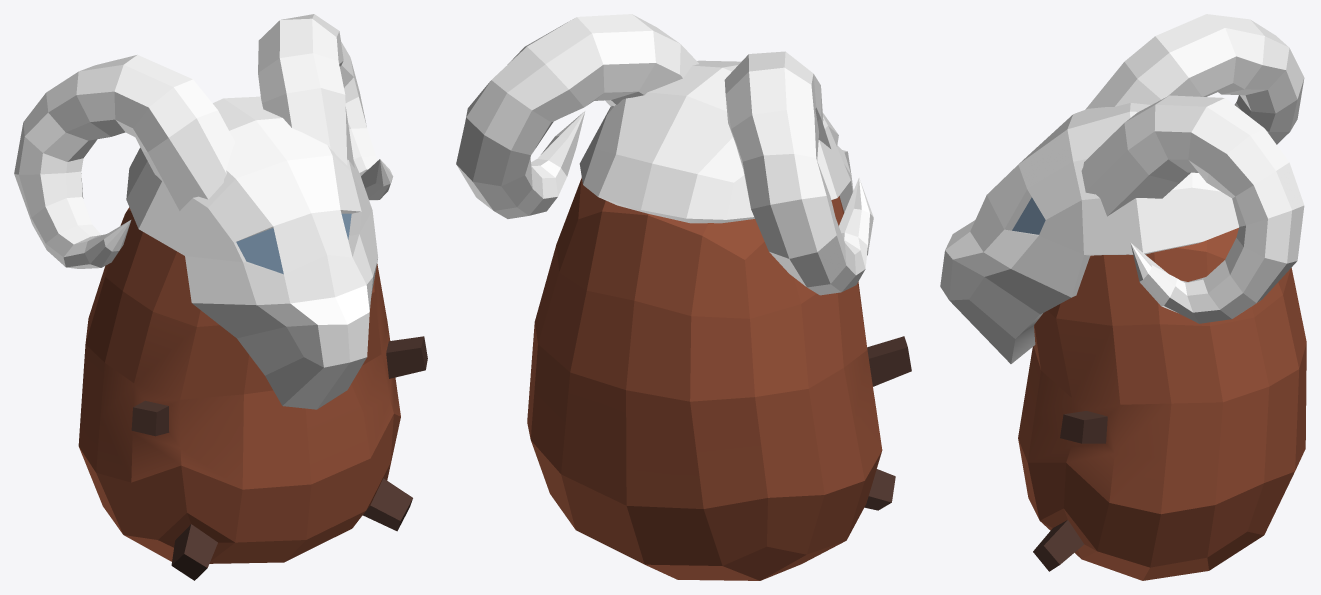
File: desert_potato.fbx
3 renders of one model, left to right at view 1: azimuth 30°, elevation 25°; view 2: azimuth 150°, elevation 25°; view 3: azimuth 270°, elevation 25°, orthographic. The views are drawn at different scales.
Parts seen in each view (by area): view 1: pCube4, pPlane4; view 2: pPlane4, pCube4; view 3: pPlane4, pCube4.
Part boxes in pixels (<box>): pCube4: <box>14,14,393,409</box>; pPlane4: <box>78,207,427,580</box>; pPlane4: <box>527,178,911,580</box>; pCube4: <box>456,14,873,295</box>; pPlane4: <box>1018,228,1306,580</box>; pCube4: <box>940,14,1304,363</box>.
Bounding box in the file's own units: 1.23 × 1.7 × 1.13.
